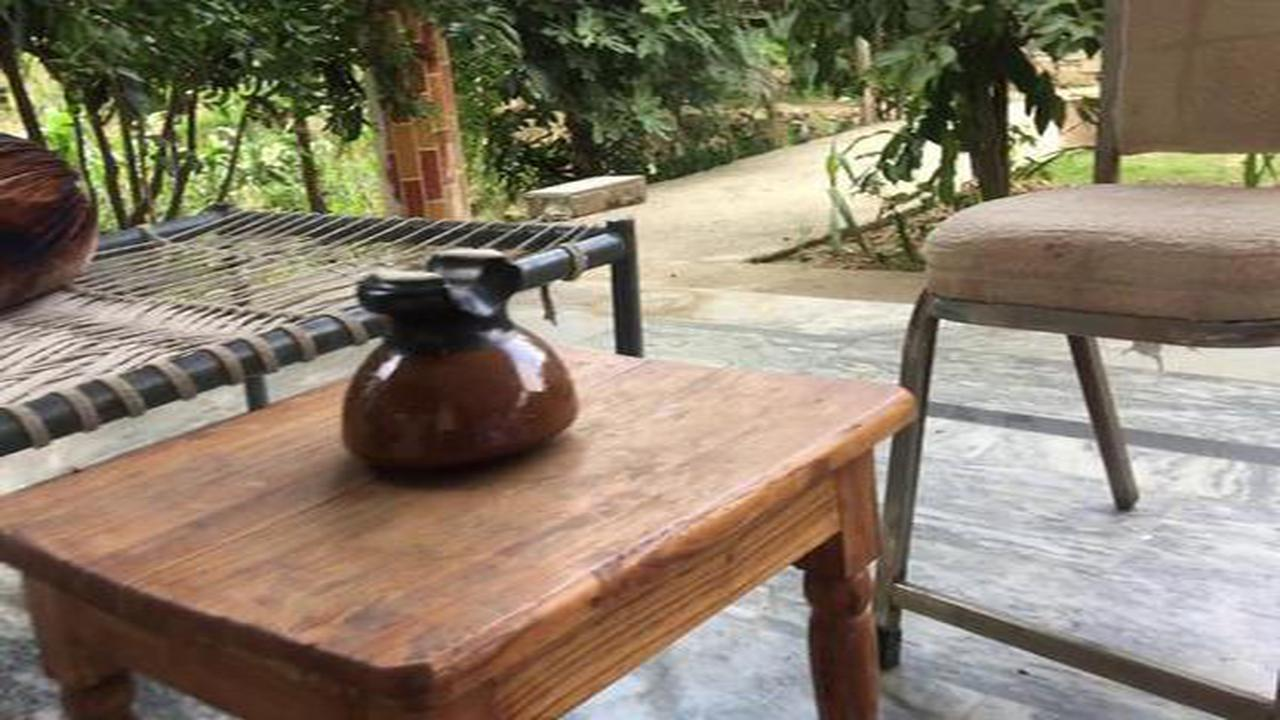insulator_pin: (317, 236, 604, 487)
